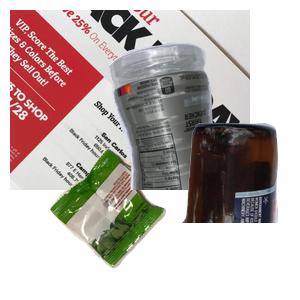glass: (87, 120, 300, 300)
paper: (10, 10, 250, 190)
plastic: (106, 40, 300, 220)
trash: (47, 146, 220, 300)
